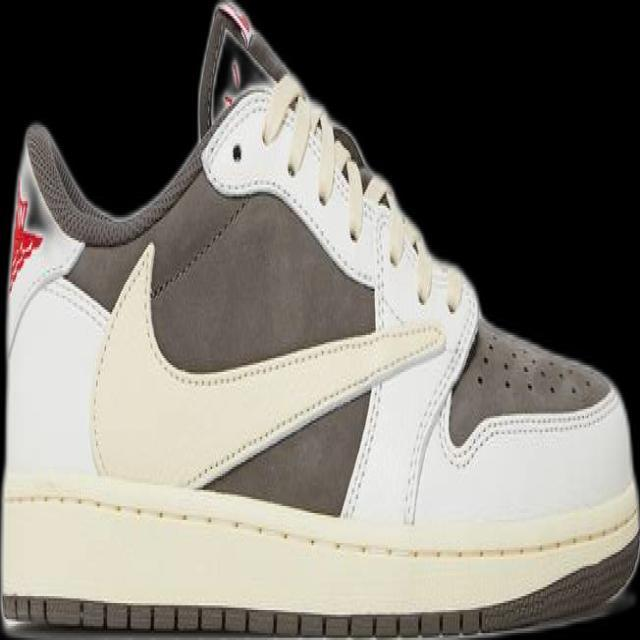J1_InsoleChar: (1, 1, 638, 638)
J1_StitchPattern: (2, 483, 637, 635), (2, 487, 638, 563), (258, 74, 435, 298), (22, 115, 218, 246), (259, 73, 371, 241), (478, 534, 638, 633), (470, 330, 591, 404), (6, 193, 44, 292), (215, 1, 255, 48)
